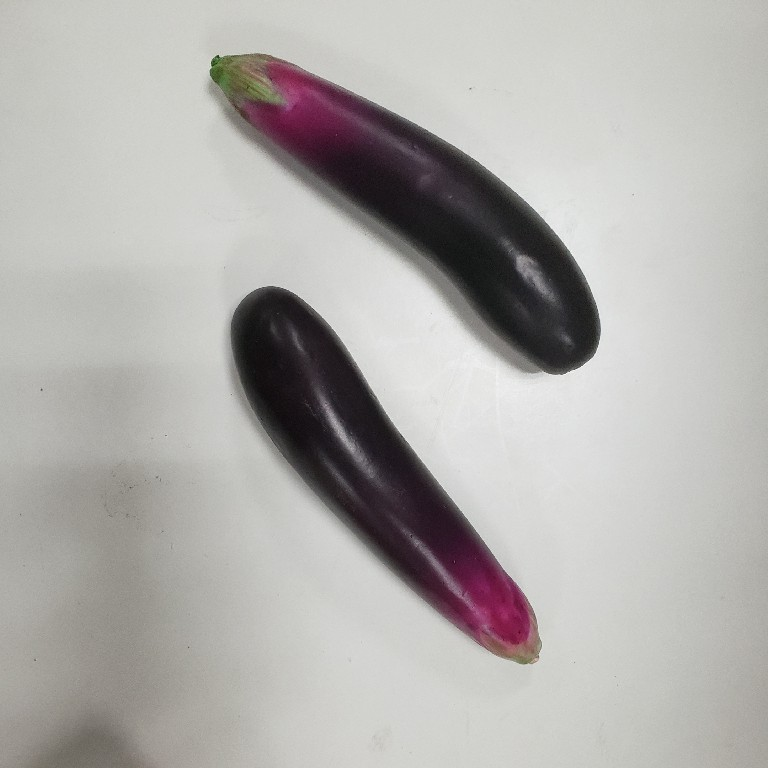fruit_eggplant: (205, 48, 604, 379), (228, 283, 546, 670)
